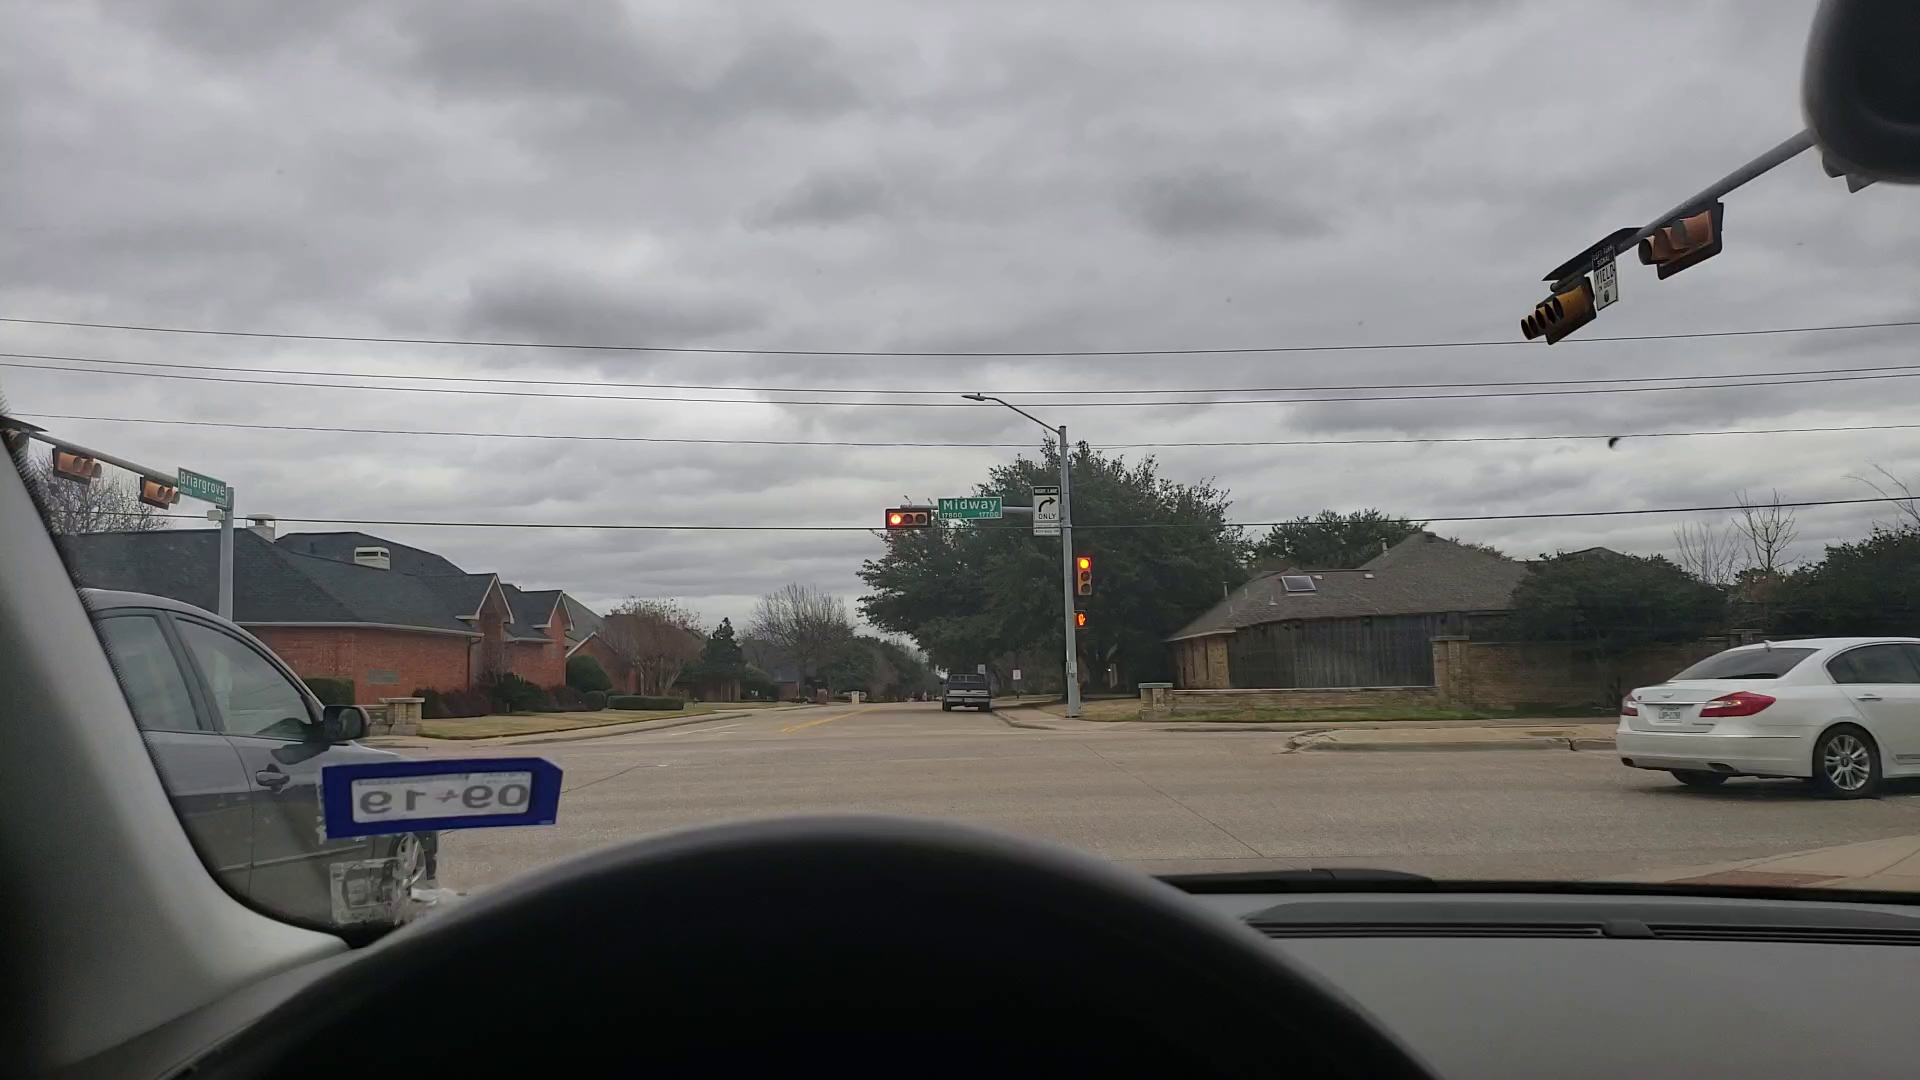car: (65, 578, 481, 930), (1606, 611, 1920, 808)
traffic light: (1629, 225, 1720, 270), (1516, 298, 1575, 343), (40, 447, 105, 484), (138, 477, 183, 508), (877, 512, 928, 531), (1077, 553, 1092, 597)
truck: (940, 673, 992, 716)
